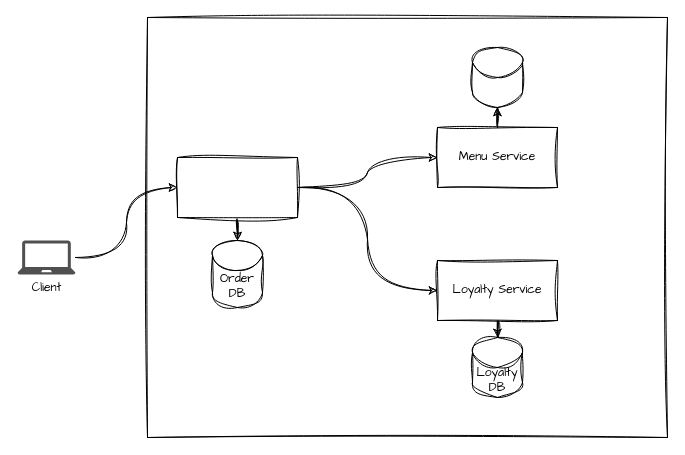
Image size: 685x455. Some labels were removed from this diagram. Each missing label, with the centre of its shape:
Menu DB: the point at 497,77
Order Service: the point at 237,187
